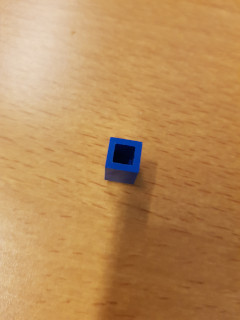1x1 blue: (101, 135, 144, 188)
